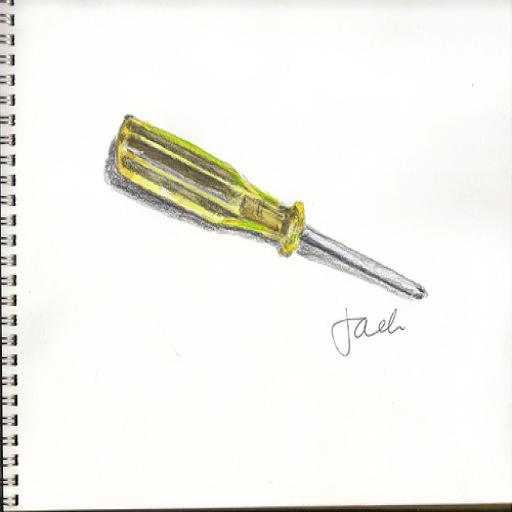screwdriver: (116, 113, 428, 303)
